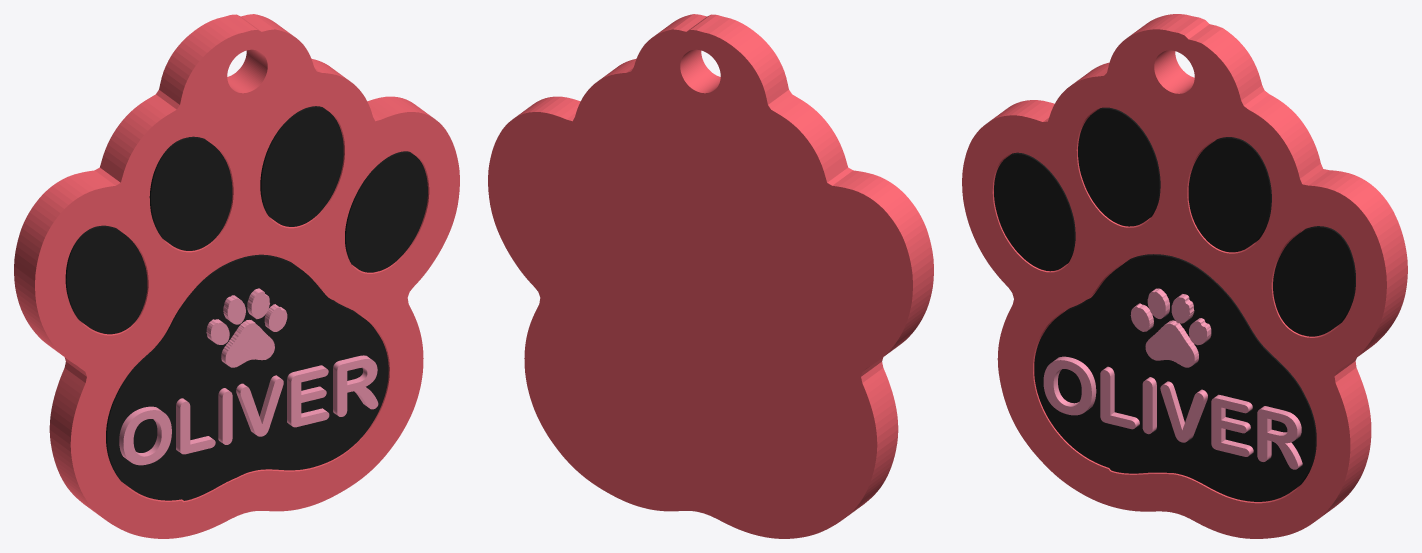
File: llavero-pata-oliver-meshy.glb
3 views of the same model, side by side, from view 1: azimuth 30°, elevation 25°; view 2: azimuth 150°, elevation 25°; view 3: azimuth 330°, elevation 25° (orthographic).
Visible parts, largest first — view 1: 1-contorno, 2-almohadillas, 3-letras; view 2: 1-contorno; view 3: 1-contorno, 2-almohadillas, 3-letras.
Boxes of the visible parts, box(x1,y1,x2,y2) form: 1-contorno: box(14, 14, 459, 538); 2-almohadillas: box(65, 106, 427, 500); 3-letras: box(119, 288, 378, 465); 1-contorno: box(488, 14, 933, 538); 1-contorno: box(962, 14, 1407, 538); 2-almohadillas: box(994, 107, 1355, 501); 3-letras: box(1043, 288, 1302, 469).
Bounding box in the file's own units: 0.042 × 0.0463 × 0.0042.
